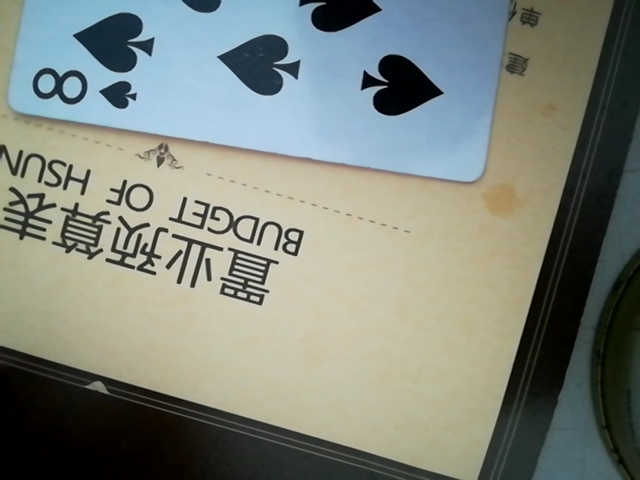ht 8: (5, 0, 540, 185)
